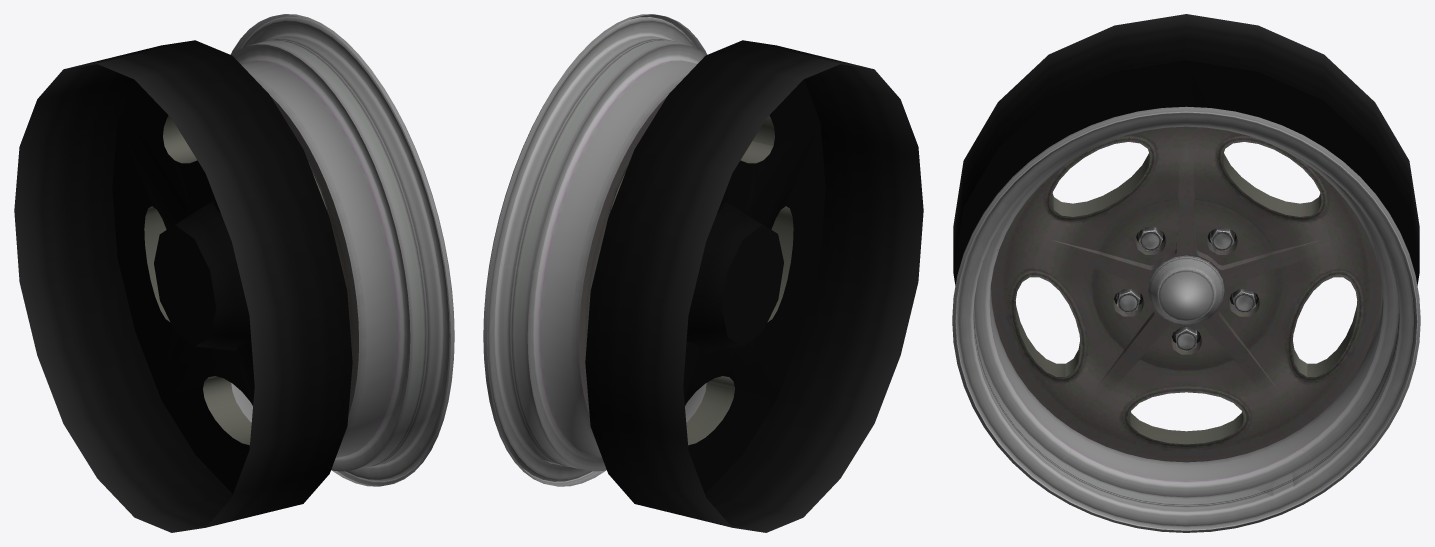
Rendered from wheel37.fbx.
3 renders of one model, left to right at view 1: azimuth 30°, elevation 25°; view 2: azimuth 150°, elevation 25°; view 3: azimuth 270°, elevation 25°, orthographic. The views are drawn at different scales.
Visible parts, largest first — view 1: cra_series391_wheel_wheel_inner_rim_, wheel_rim, cra_series391_wheel_wheel_rim_; view 2: cra_series391_wheel_wheel_inner_rim_, wheel_rim, cra_series391_wheel_wheel_rim_; view 3: cra_series391_wheel_wheel_rim_, wheel_rim, cra_series391_wheel_wheel_inner_rim_.
Boxes of the visible parts, x1,y1,x2,y2 form: cra_series391_wheel_wheel_inner_rim_: (14, 40, 352, 532); wheel_rim: (230, 14, 454, 486); cra_series391_wheel_wheel_rim_: (144, 97, 358, 445); cra_series391_wheel_wheel_inner_rim_: (585, 40, 923, 532); wheel_rim: (483, 14, 707, 486); cra_series391_wheel_wheel_rim_: (579, 97, 793, 445); cra_series391_wheel_wheel_rim_: (991, 126, 1381, 462); wheel_rim: (952, 106, 1420, 532); cra_series391_wheel_wheel_inner_rim_: (953, 14, 1419, 285).
Size of the model in its own units: 0.231 by 0.4804 by 0.4802.
1 material, 1 textured.
